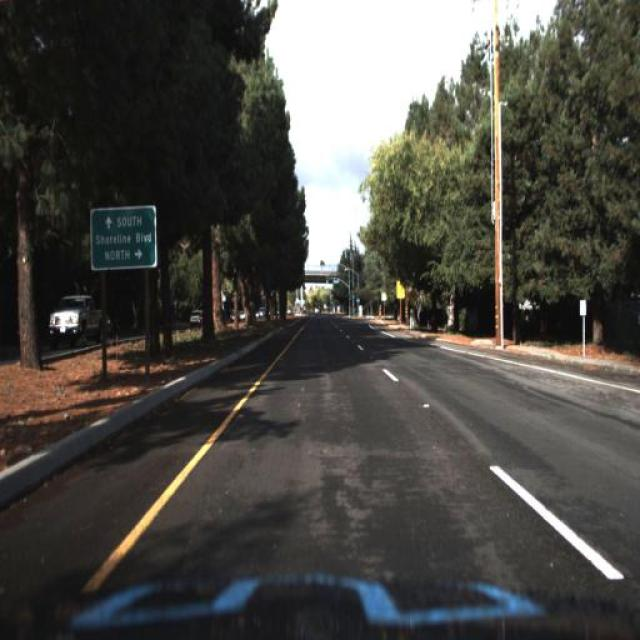car: (44, 290, 110, 364), (48, 292, 111, 346), (187, 307, 202, 332)
